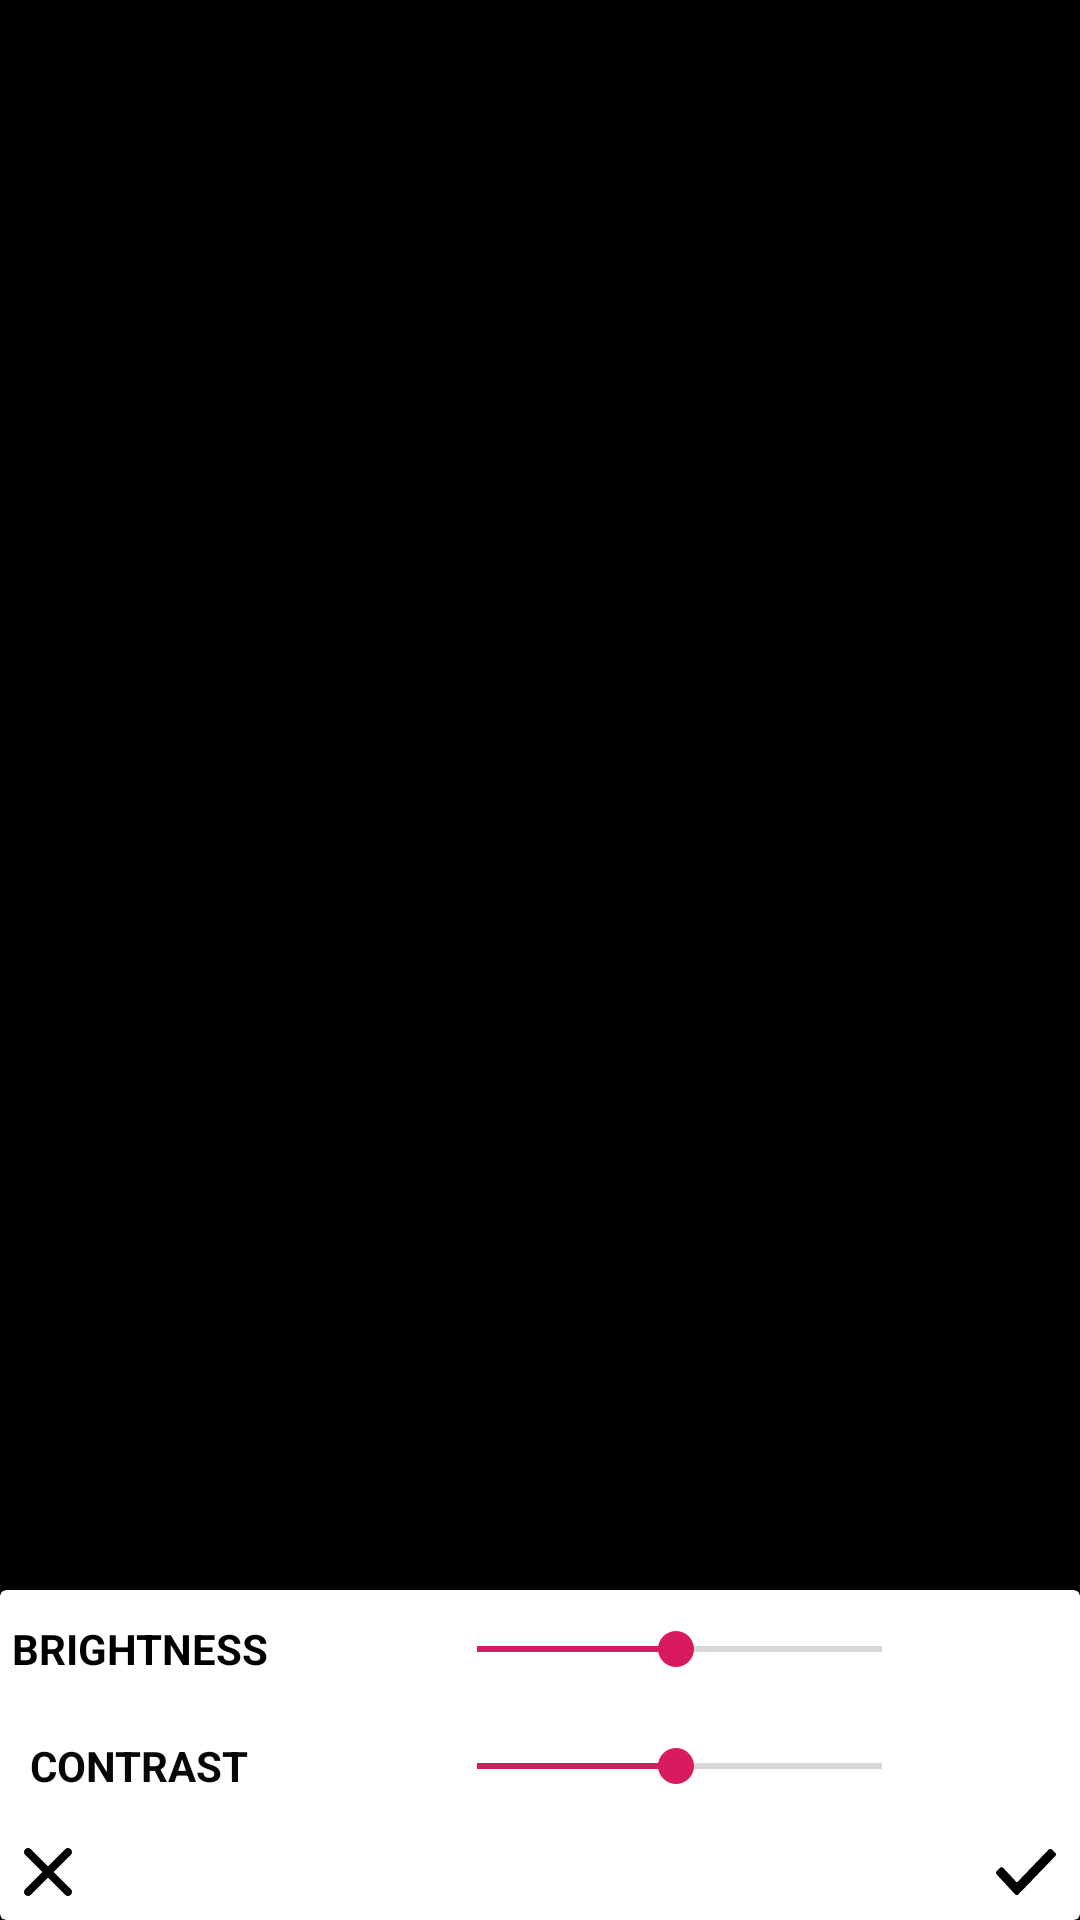

Where to tap for icons on this 1080 × 1920 app screen, as point (x, y):
remove: point (36, 1884)
tick: point (1038, 1884)
